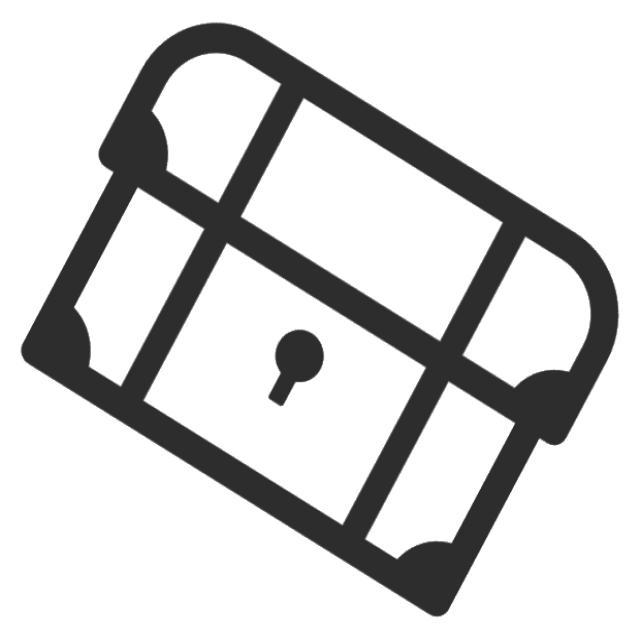treasure_box: (15, 17, 627, 629)
